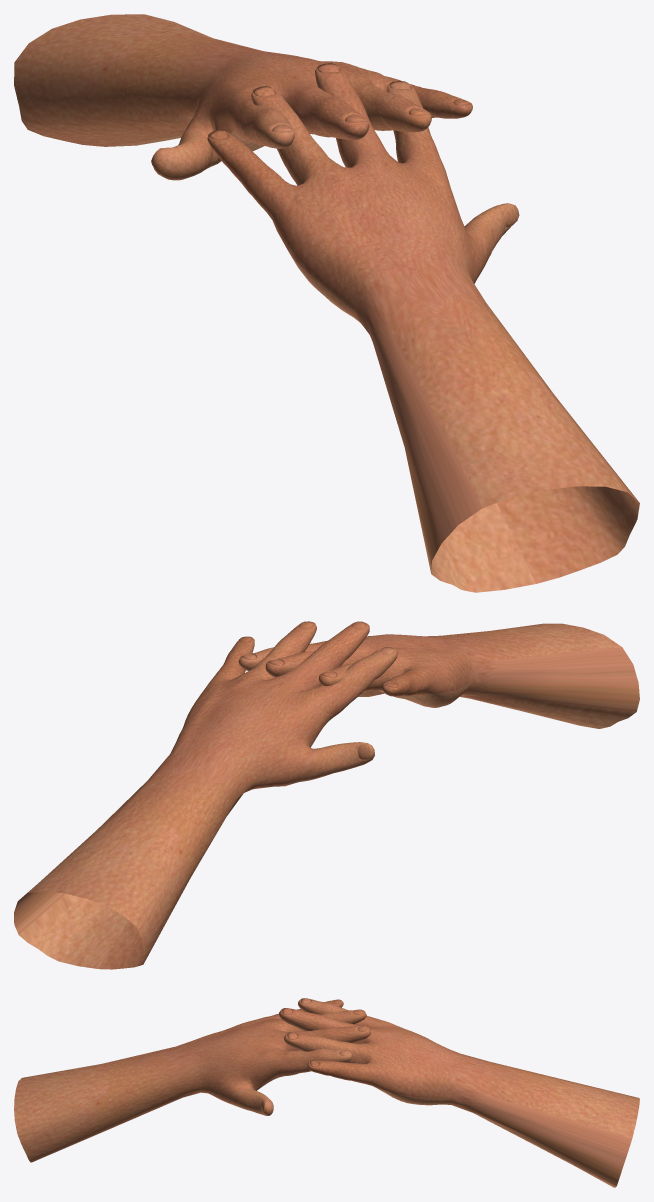
The model's file is hands_000079.obj.
The picture shows the model from 3 angles, top to bottom: view 1: azimuth 30°, elevation 25°; view 2: azimuth 150°, elevation 25°; view 3: azimuth 270°, elevation 25°; orthographic projection. The views are drawn at different scales.
Parts seen in each view (by area): view 1: hand.001_Mesh.001, hand_Mesh; view 2: hand_Mesh, hand.001_Mesh.001; view 3: hand_Mesh, hand.001_Mesh.001.
Part boxes in pixels (box(x1,y1,x2,y2)): hand.001_Mesh.001: box(207, 63, 639, 592); hand_Mesh: box(14, 14, 472, 180); hand_Mesh: box(14, 621, 397, 969); hand.001_Mesh.001: box(238, 623, 639, 728); hand_Mesh: box(279, 998, 639, 1187); hand.001_Mesh.001: box(14, 999, 370, 1162).
Bounding box in the file's own units: 1.7 × 1.45 × 5.29.
Materials: 1 (1 with a texture image).
